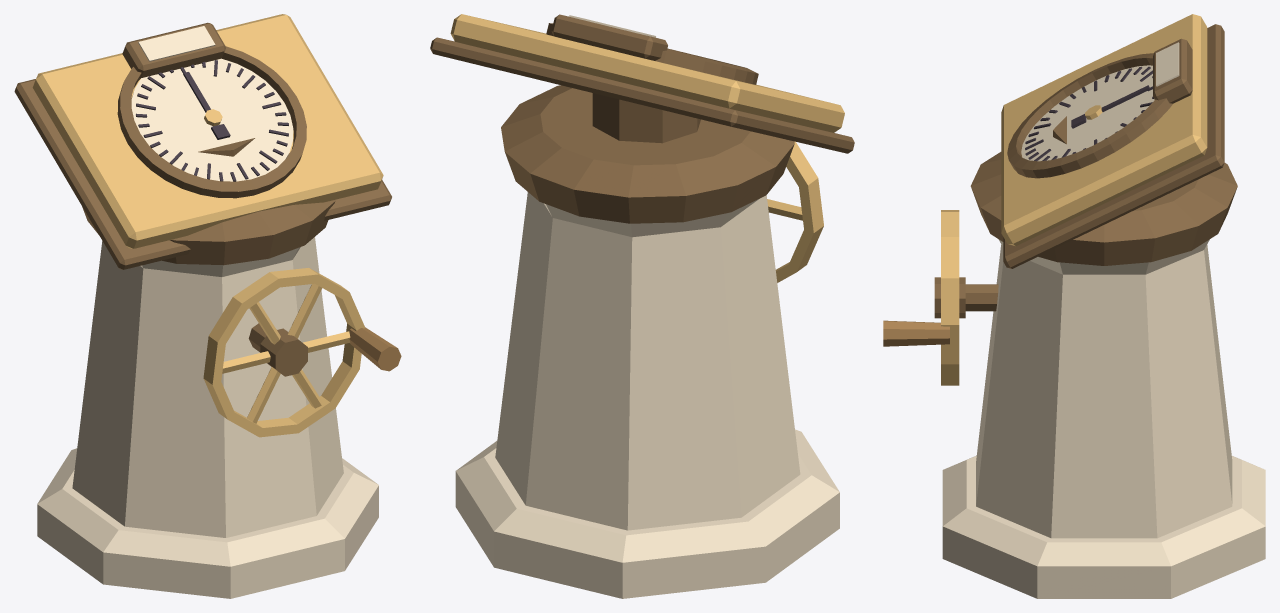
Rendered from commande_lentille.glb.
3 views of the same model, side by side, from view 1: azimuth 30°, elevation 25°; view 2: azimuth 150°, elevation 25°; view 3: azimuth 270°, elevation 25° (orthographic). The views are drawn at different scales.
Parts seen in each view (by area): view 1: Fût du pupitre, Plateau du pupitre, Plinthe du pupitre, Émail du cadran, Jante du volant, Collier du pupitre, Cerclage du cadran, Semelle du plateau, Boîtier du compteur, Fenêtre du compteur, Moyeu du volant, Poignée de bois (+5 smaller); view 2: Fût du pupitre, Plinthe du pupitre, Collier du pupitre, Plateau du pupitre, Semelle du plateau, Col du pupitre, Jante du volant, Boîtier du compteur, Cerclage du cadran; view 3: Fût du pupitre, Plinthe du pupitre, Plateau du pupitre, Collier du pupitre, Semelle du plateau, Émail du cadran, Cerclage du cadran, Jante du volant, Poignée de bois, Boîtier du compteur, Arbre du volant, Fenêtre du compteur (+1 smaller).
Boxes of the visible parts, x1=… form: Fût du pupitre: x1=72, y1=237, x2=343, y2=537; Plateau du pupitre: x1=32, y1=14, x2=383, y2=248; Plinthe du pupitre: x1=37, y1=448, x2=378, y2=598; Émail du cadran: x1=131, y1=58, x2=293, y2=181; Jante du volant: x1=203, y1=268, x2=364, y2=437; Collier du pupitre: x1=82, y1=199, x2=335, y2=265; Cerclage du cadran: x1=117, y1=46, x2=306, y2=198; Semelle du plateau: x1=14, y1=79, x2=391, y2=269; Boîtier du compteur: x1=122, y1=22, x2=226, y2=78; Fenêtre du compteur: x1=138, y1=26, x2=215, y2=61; Moyeu du volant: x1=260, y1=328, x2=307, y2=376; Poignée de bois: x1=349, y1=327, x2=401, y2=371; Fût du pupitre: x1=495, y1=192, x2=800, y2=530; Plinthe du pupitre: x1=455, y1=429, x2=839, y2=598; Collier du pupitre: x1=501, y1=85, x2=794, y2=223; Plateau du pupitre: x1=450, y1=14, x2=844, y2=132; Semelle du plateau: x1=430, y1=37, x2=854, y2=153; Col du pupitre: x1=592, y1=93, x2=700, y2=143; Jante du volant: x1=775, y1=141, x2=823, y2=282; Boîtier du compteur: x1=551, y1=14, x2=667, y2=60; Cerclage du cadran: x1=546, y1=23, x2=758, y2=84; Fût du pupitre: x1=976, y1=239, x2=1232, y2=538; Plinthe du pupitre: x1=942, y1=455, x2=1265, y2=598; Plateau du pupitre: x1=1001, y1=14, x2=1207, y2=246; Collier du pupitre: x1=970, y1=152, x2=1237, y2=265; Semelle du plateau: x1=1003, y1=24, x2=1224, y2=268; Émail du cadran: x1=1021, y1=65, x2=1154, y2=161; Cerclage du cadran: x1=1007, y1=53, x2=1172, y2=178; Jante du volant: x1=941, y1=210, x2=959, y2=385; Poignée de bois: x1=883, y1=320, x2=949, y2=346; Boîtier du compteur: x1=1153, y1=38, x2=1192, y2=103; Arbre du volant: x1=965, y1=284, x2=998, y2=311; Fenêtre du compteur: x1=1156, y1=42, x2=1179, y2=86.
Size of the model in its own units: 0.6282 by 1.01 by 0.7441.
